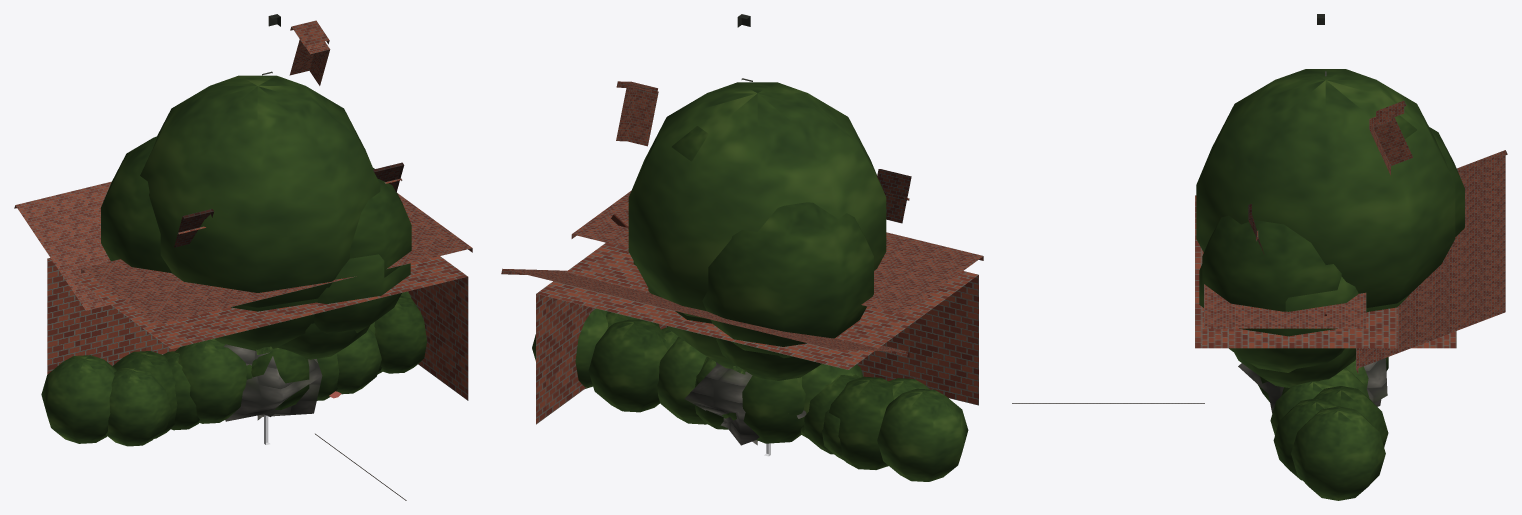
The model's file is props.glb.
3 renders of one model, left to right at view 1: azimuth 30°, elevation 25°; view 2: azimuth 150°, elevation 25°; view 3: azimuth 270°, elevation 25°, orthographic. The views are drawn at different scales.
Parts seen in each view (by area): view 1: tree-3, station-walls, hedge-2, hedge-1, tree-2, rock-3, tree-1, tree-0, bush-2; view 2: tree-3, station-walls, hedge-2, bush-2, tree-1, hedge-1, rock-3, hedge-0; view 3: tree-3, station-walls, hedge-2, tree-2, hedge-1, tree-0, rock-3.
Boxes of the visible parts, <box> form: tree-3: <box>101,75,411,307</box>; station-walls: <box>14,20,472,400</box>; hedge-2: <box>41,291,411,443</box>; hedge-1: <box>106,295,426,446</box>; tree-2: <box>256,254,410,354</box>; rock-3: <box>223,344,322,421</box>; tree-1: <box>214,298,317,350</box>; tree-0: <box>278,323,369,359</box>; bush-2: <box>251,348,309,410</box>; tree-3: <box>628,82,886,358</box>; station-walls: <box>501,81,983,424</box>; hedge-2: <box>532,308,968,481</box>; bush-2: <box>697,357,805,443</box>; tree-1: <box>648,288,821,380</box>; hedge-1: <box>606,311,929,454</box>; rock-3: <box>684,362,806,445</box>; hedge-0: <box>658,337,846,461</box>; tree-3: <box>1196,69,1464,311</box>; station-walls: <box>1195,100,1507,373</box>; hedge-2: <box>1282,367,1388,500</box>; tree-2: <box>1199,264,1367,372</box>; hedge-1: <box>1270,367,1354,480</box>; tree-0: <box>1234,348,1355,387</box>; rock-3: <box>1238,358,1387,413</box>.
Size of the model in its own units: 12.36 by 12.11 by 12.31.
7 materials, 6 textured.
